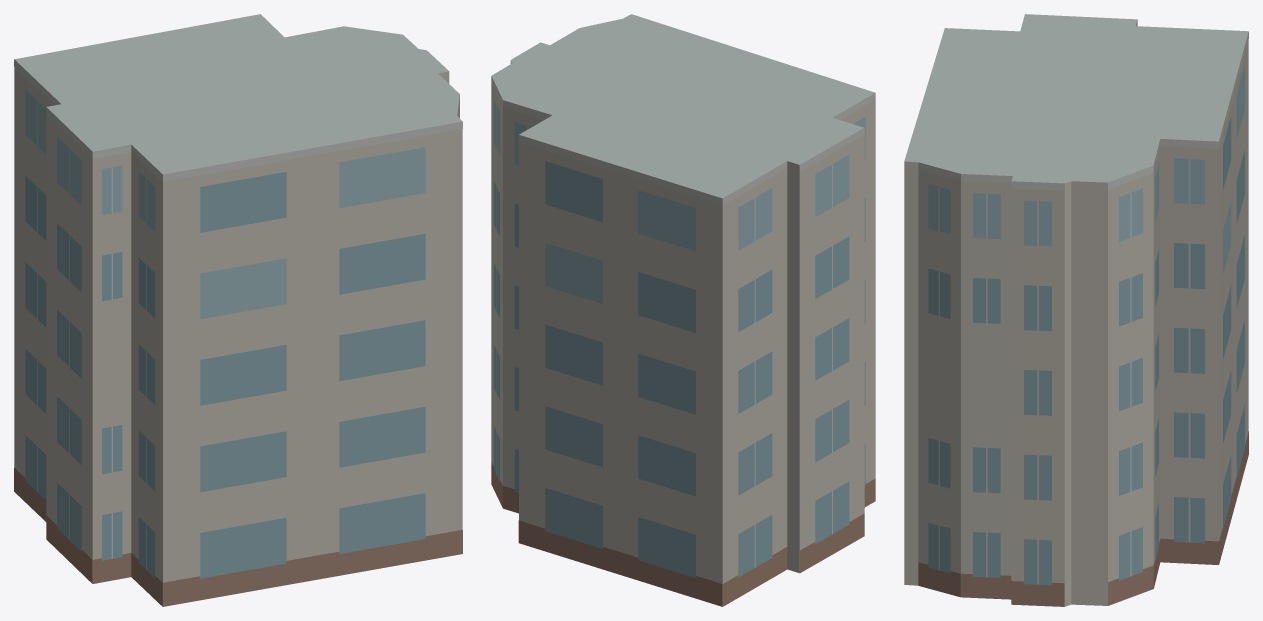
The model's file is survey-upis-32746374.glb.
3 views of the same model, side by side, from view 1: azimuth 30°, elevation 25°; view 2: azimuth 150°, elevation 25°; view 3: azimuth 270°, elevation 25° (orthographic). The views are drawn at different scales.
Visible parts, largest first — view 1: survey-upis-32746374.tmp; view 2: survey-upis-32746374.tmp; view 3: survey-upis-32746374.tmp.
Part boxes in pixels (bbox=[...]): survey-upis-32746374.tmp: bbox=[14, 14, 462, 606]; survey-upis-32746374.tmp: bbox=[491, 14, 875, 606]; survey-upis-32746374.tmp: bbox=[904, 14, 1248, 606].
Size of the model in its own units: 12.11 by 14.1 by 10.41.
